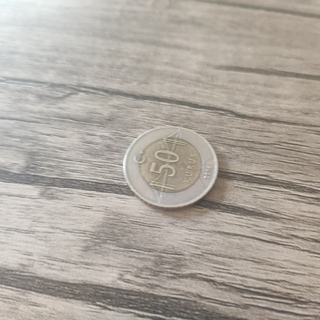50KURUS: (122, 124, 220, 212)
